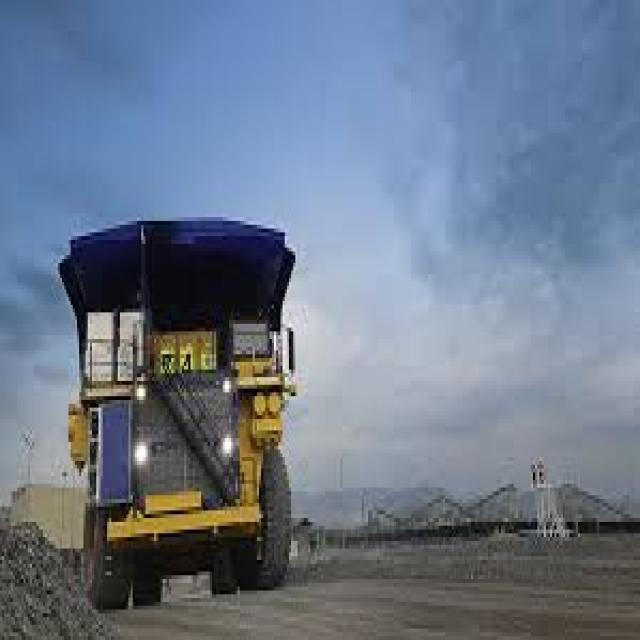dump_truck: (41, 176, 323, 594)
